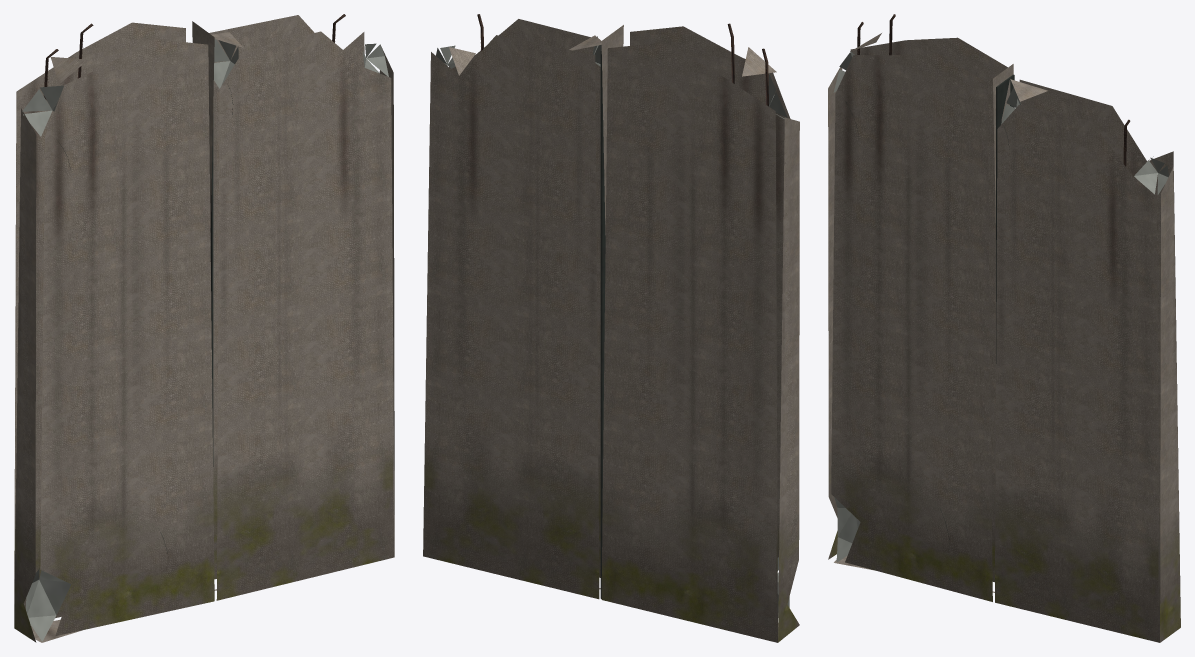
Rendered from lod2_NOT_APPROVED.glb.
3 views of the same model, side by side, from view 1: azimuth 30°, elevation 25°; view 2: azimuth 150°, elevation 25°; view 3: azimuth 330°, elevation 25° (orthographic). The views are drawn at different scales.
Parts seen in each view (by area): view 1: f3_rain_stained_wall_surface, f3_exposed_aggregate_surface, f3_deep_crack_surface; view 2: f3_rain_stained_wall_surface, f3_deep_crack_surface, f3_exposed_aggregate_surface, f3_oxidized_iron_surface; view 3: f3_rain_stained_wall_surface, f3_exposed_aggregate_surface, f3_deep_crack_surface.
Boxes of the visible parts, x1,y1,x2,y2 form: f3_rain_stained_wall_surface: (14, 15, 394, 642); f3_exposed_aggregate_surface: (22, 38, 388, 641); f3_deep_crack_surface: (59, 86, 233, 553); f3_rain_stained_wall_surface: (423, 19, 799, 642); f3_deep_crack_surface: (600, 50, 605, 598); f3_exposed_aggregate_surface: (436, 36, 789, 617); f3_oxidized_iron_surface: (477, 14, 768, 106); f3_rain_stained_wall_surface: (828, 33, 1180, 642); f3_exposed_aggregate_surface: (833, 51, 1168, 562); f3_deep_crack_surface: (845, 74, 1014, 550).
Size of the model in its own units: 4.05 by 6.47 by 0.4472.
4 materials, 4 textured.
